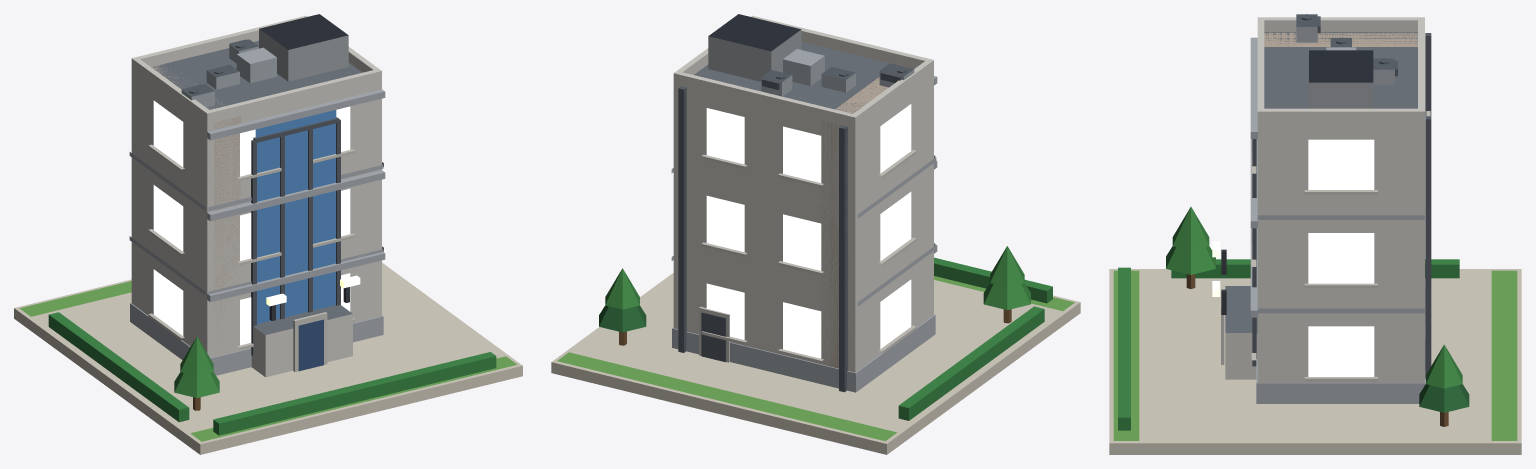
3 renders of one model, left to right at view 1: azimuth 30°, elevation 25°; view 2: azimuth 150°, elevation 25°; view 3: azimuth 270°, elevation 25°, orthographic. The views are drawn at different scales.
Parts seen in each view (by area): view 1: b16; view 2: b16; view 3: b16.
Part boxes in pixels (x1,y1,x2,y2): b16: [14, 14, 522, 454]; b16: [551, 14, 1080, 454]; b16: [1109, 14, 1521, 454].
Size of the model in its own units: 0.96 by 0.84 by 0.96.
